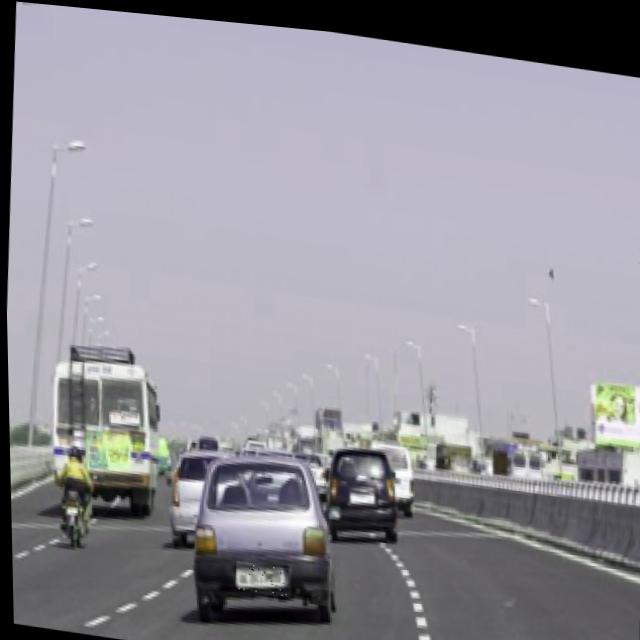license_plate: (232, 556, 289, 592)
